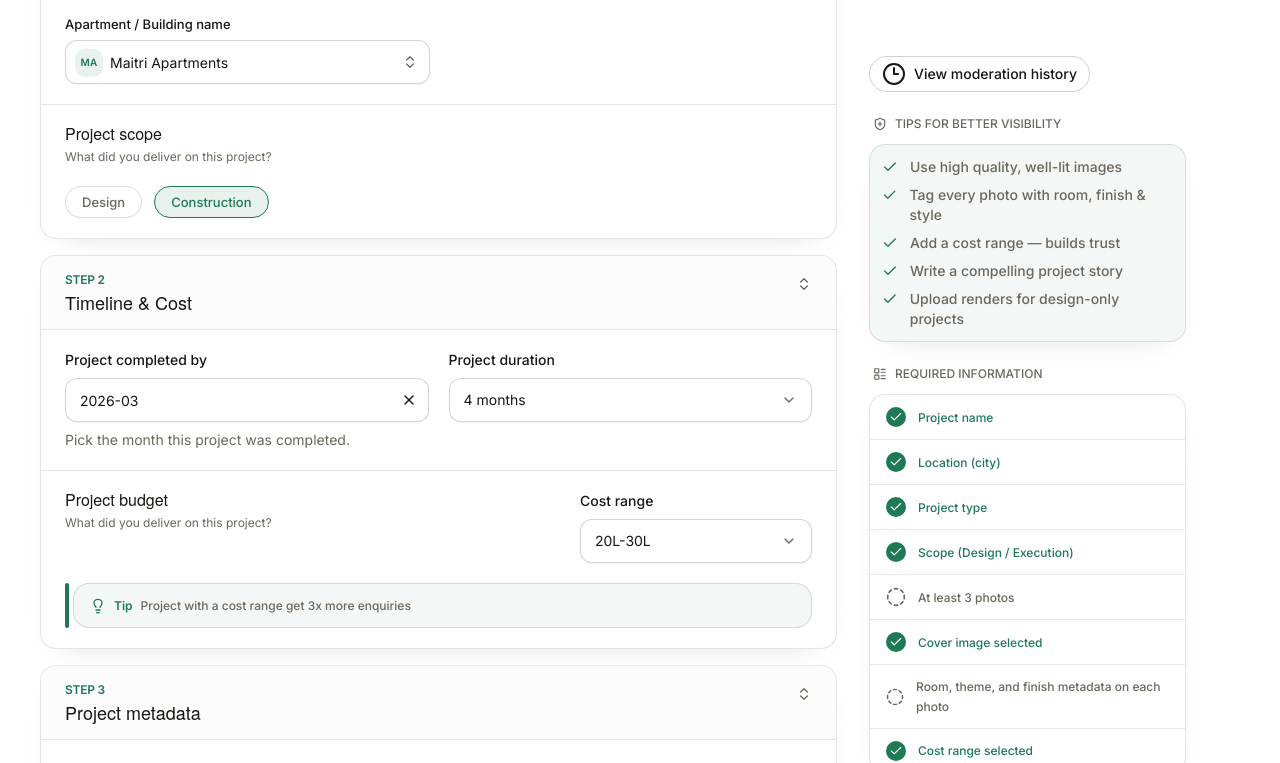
DesignerProjectUpload › rejects an invalid completion month 2026-13 before saving the draft
(page scrolled)
Replace the text in the field labelled "Project completed by" with "2026-13" at (247, 400), box [65,378,428,422]
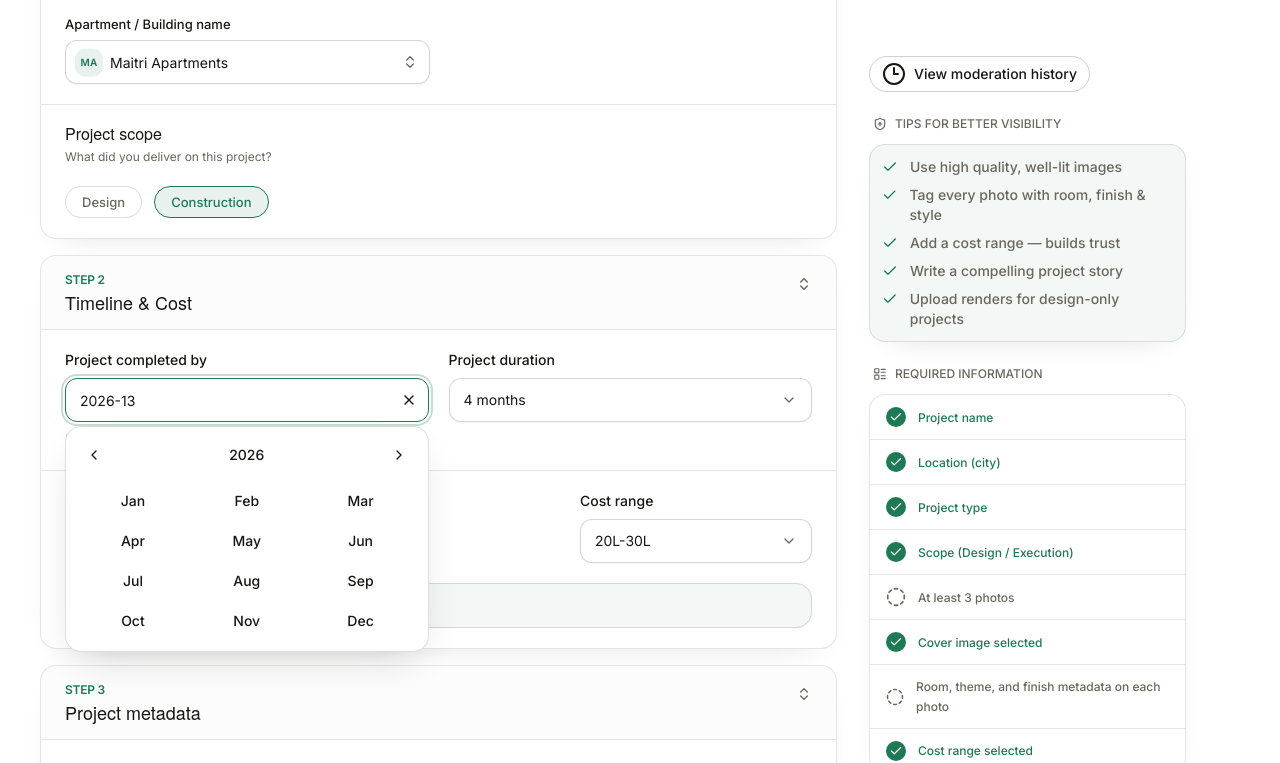
Press Escape
(page scrolled)
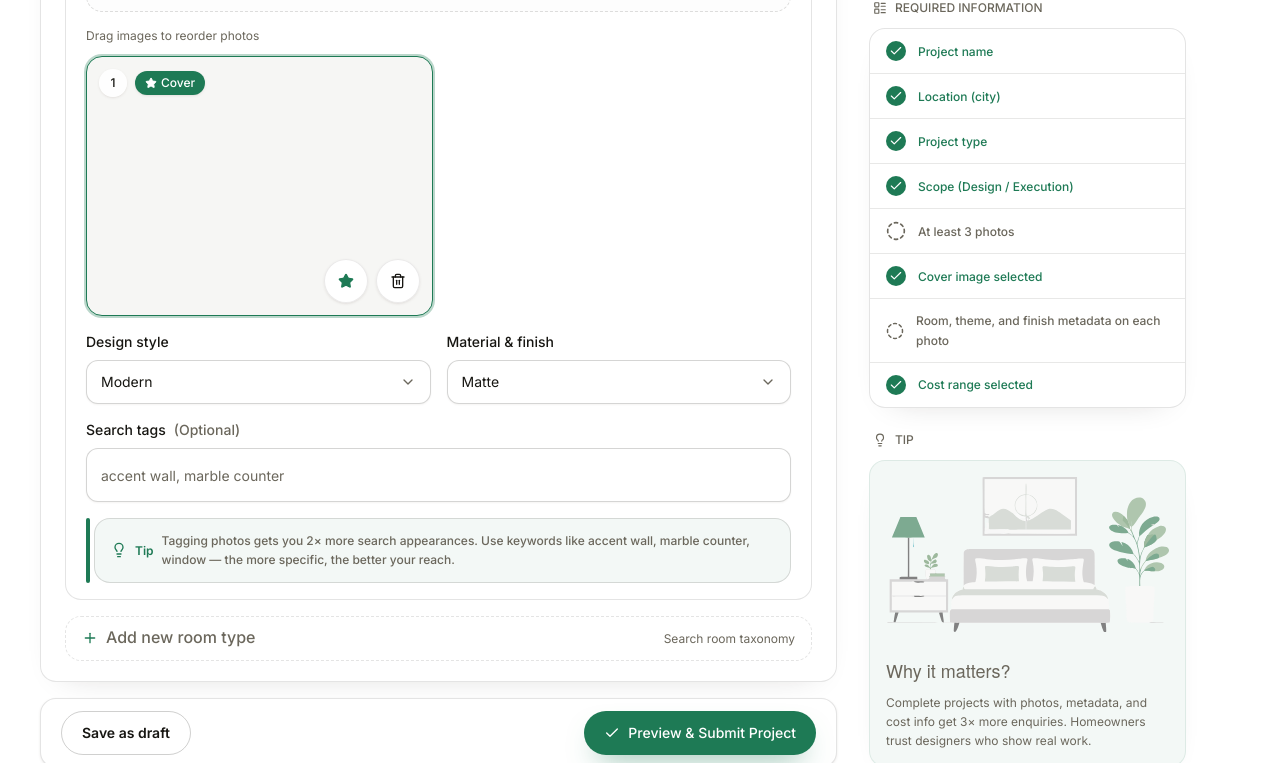
Click the button "Save as draft" at (126, 733), box [61,711,191,755]
(page scrolled)
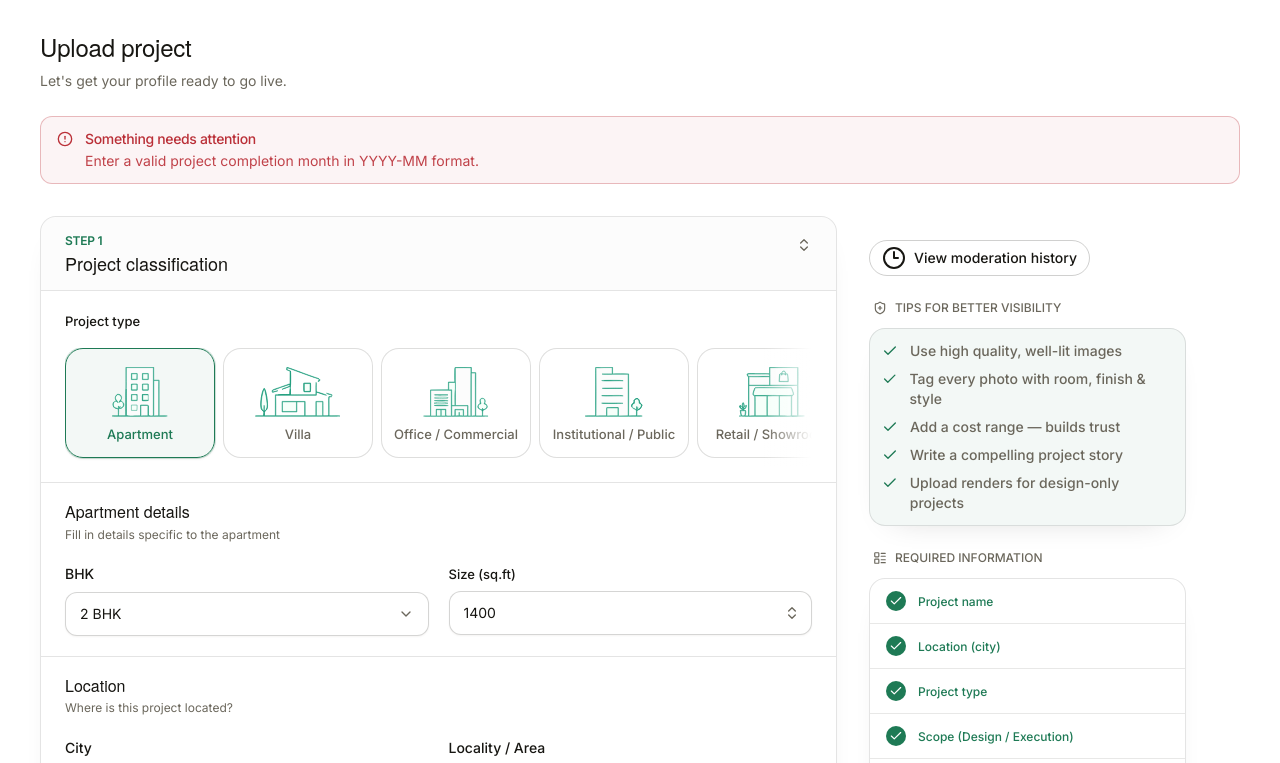
Expected: the text "Enter a valid project completion month in YYYY-MM format." is shown, [85,152,479,169]
